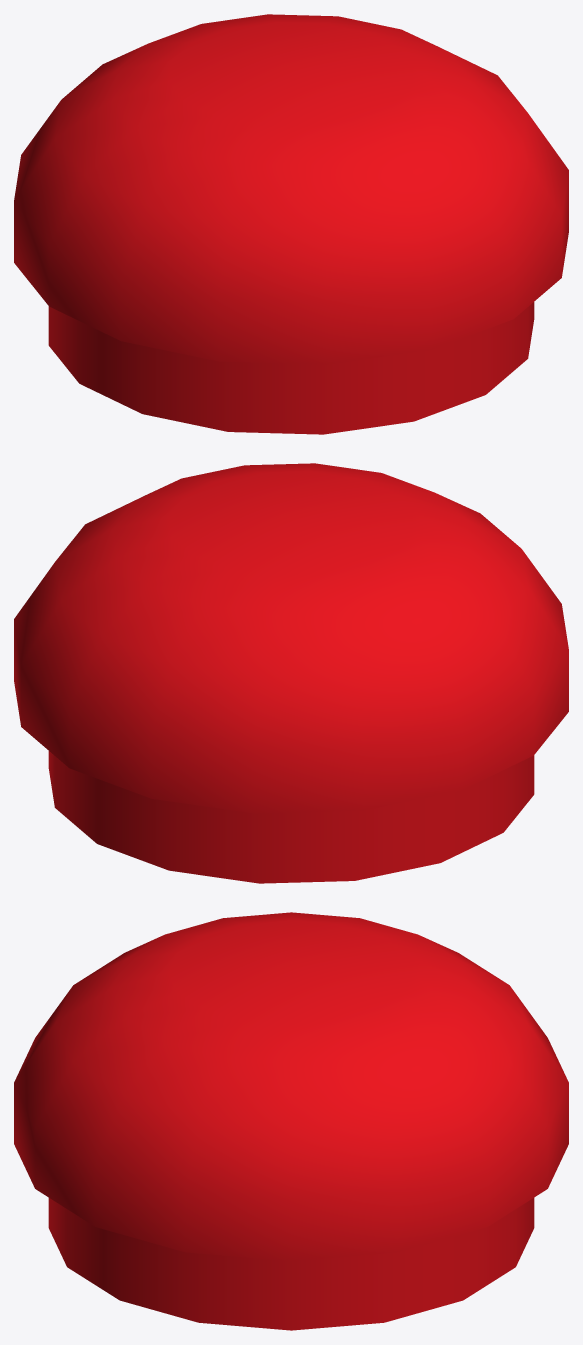
File: Button.fbx
The picture shows the model from 3 angles, top to bottom: view 1: azimuth 30°, elevation 25°; view 2: azimuth 150°, elevation 25°; view 3: azimuth 270°, elevation 25°; orthographic projection.
Visible parts, largest first — view 1: Button; view 2: Button; view 3: Button.
Boxes of the visible parts, x1=… form: Button: x1=14, y1=14, x2=568, y2=434; Button: x1=14, y1=463, x2=568, y2=883; Button: x1=14, y1=912, x2=568, y2=1330.
Size of the model in its own units: 20 by 10.44 by 20.
